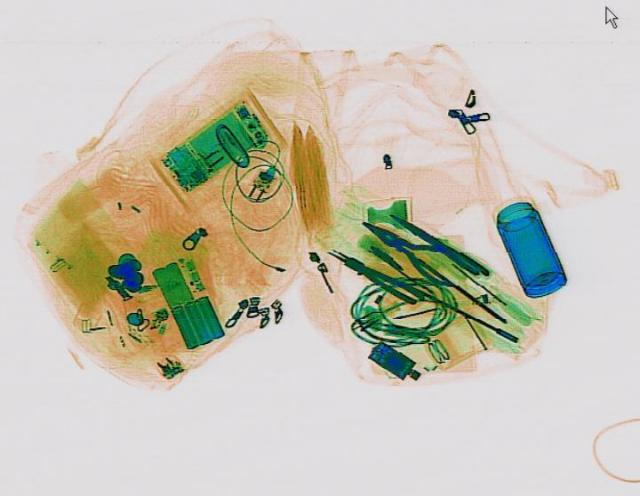Pliers: (347, 208, 473, 288), (381, 206, 493, 280), (320, 242, 424, 305)
